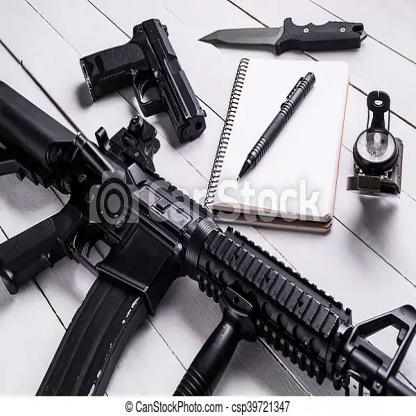Gun: (0, 80, 416, 397)
Knife: (196, 14, 368, 57)
Pistol: (80, 16, 206, 145)
